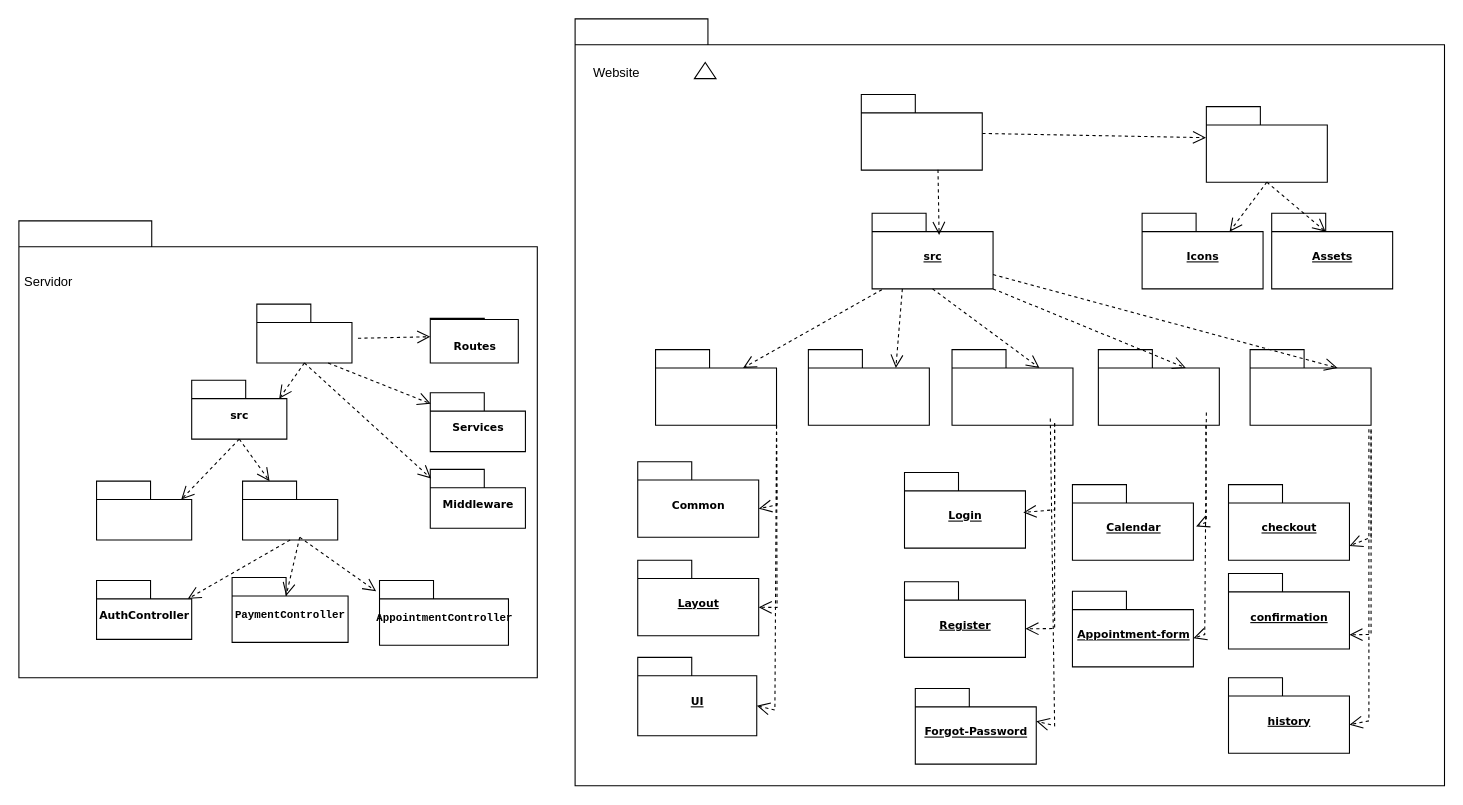
The diagram is 1463 pixels wide and 805 high, and some of its shapes have lost their labels. The centre of each missing label's shape, as x and y in pixels:
appointments: point (1158, 387)
Auth: point (1012, 387)
Backend: point (304, 333)
Components: point (715, 387)
Controllers: point (289, 510)
Frontend: point (921, 131)
Models: point (143, 510)
Payments: point (1310, 387)
public: point (1266, 144)
Views: point (868, 387)
